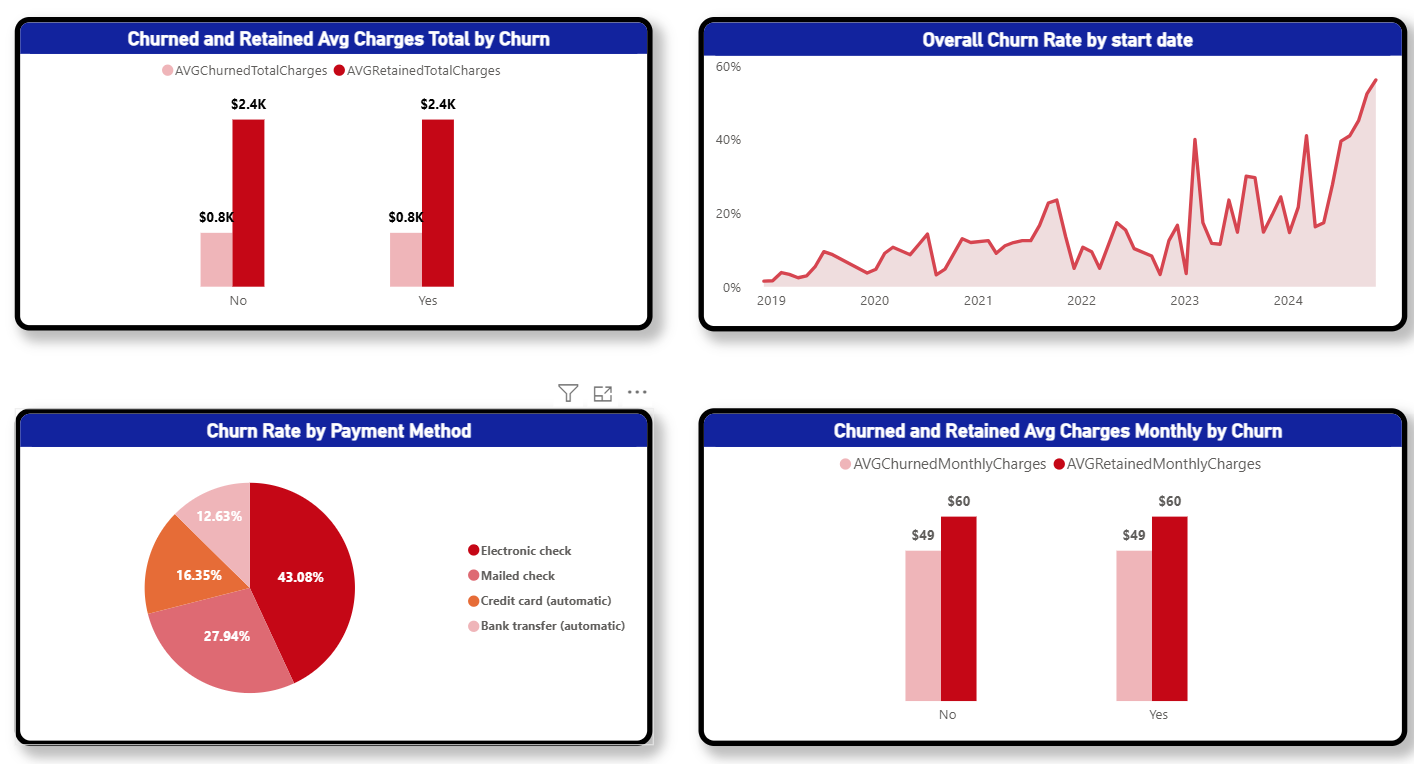

The page's visual inventory and layout, read from the dashboard file:
{"tool":"powerbi","page":{"name":"Customers","canvas":[1280,720],"ordinal":2},"visuals":[{"type":"stackedAreaChart","title":"Overall Churn Rate by start date ","fields":{"Category":["FactChurn.start date "],"Y":["DimMeasures.OverallChurnRate"]},"box":[628.6,349.9,631,353.5],"z":0},{"type":"clusteredColumnChart","title":"Avg Total Charged For Churned & Retained Customers","fields":{"Category":["FactChurn.Churn"],"Y":["Avg(FactChurn.TotalCharges)"]},"box":[14.4,10.8,569.2,321.8],"z":1000},{"type":"donutChart","title":"Churned Customers by Dependents","fields":{"Category":["DimCustomers.has Dependents"],"Y":["DimMeasures.OverallChurnRate"]},"box":[14.4,351.8,569.2,354.2],"z":2000},{"type":"columnChart","title":"Avg Monthly Charged For Churned & Retained Customers","fields":{"Category":["FactChurn.Churn"],"Y":["Avg(FactChurn.MonthlyCharges)"]},"box":[626.8,10.8,631.6,321.8],"z":3000}]}

Visuals, with their boxes in screenshot pixels (x1, y1, x2, y2):
"Overall Churn Rate by start date " stackedAreaChart: box=[698, 341, 1406, 738]
"Avg Total Charged For Churned & Retained Customers" clusteredColumnChart: box=[9, 0, 648, 322]
"Churned Customers by Dependents" donutChart: box=[9, 343, 648, 741]
"Avg Monthly Charged For Churned & Retained Customers" columnChart: box=[696, 0, 1405, 322]
